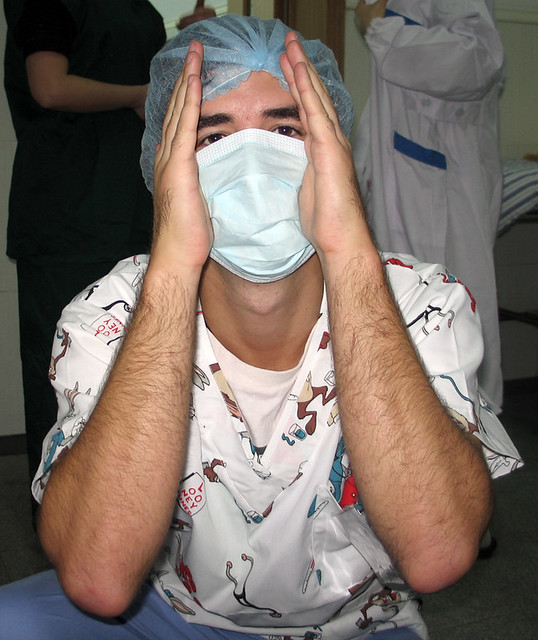mask: (192, 147, 328, 276)
